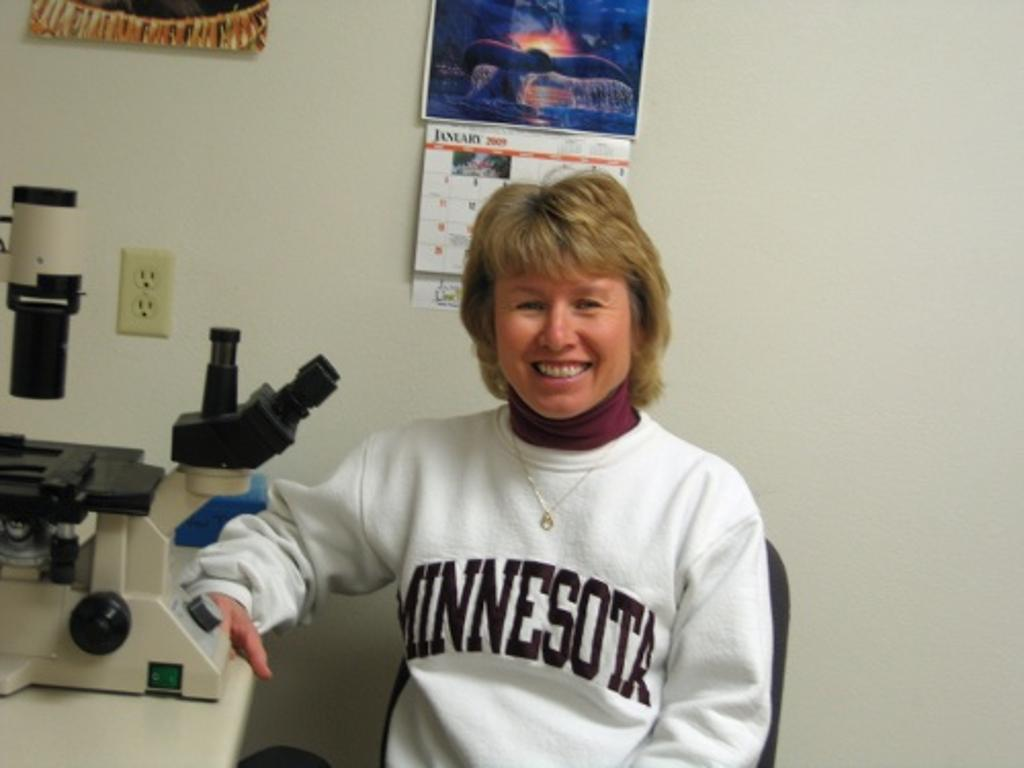face: (502, 232, 622, 404)
